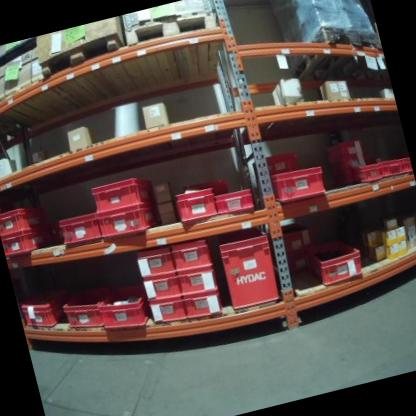pallet: (285, 16, 387, 90), (124, 7, 219, 48), (0, 71, 49, 108)
small_load_carrier: (214, 224, 286, 316), (91, 272, 155, 338), (82, 165, 157, 218), (300, 234, 366, 291), (322, 134, 377, 193), (57, 279, 118, 332), (94, 201, 164, 245), (268, 162, 329, 207), (356, 149, 413, 188), (173, 185, 221, 230), (0, 197, 53, 237), (2, 225, 57, 262), (54, 207, 101, 250), (18, 291, 65, 333), (169, 236, 217, 273), (212, 184, 261, 219), (176, 262, 220, 299), (145, 294, 190, 330), (279, 216, 320, 253), (135, 245, 177, 281), (183, 288, 227, 321), (140, 272, 182, 303), (262, 148, 305, 178)
